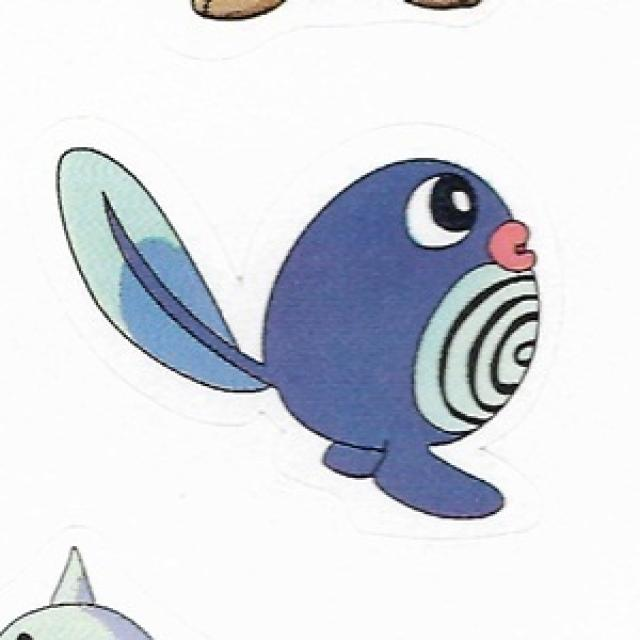Poliwag: (255, 148, 542, 521)
